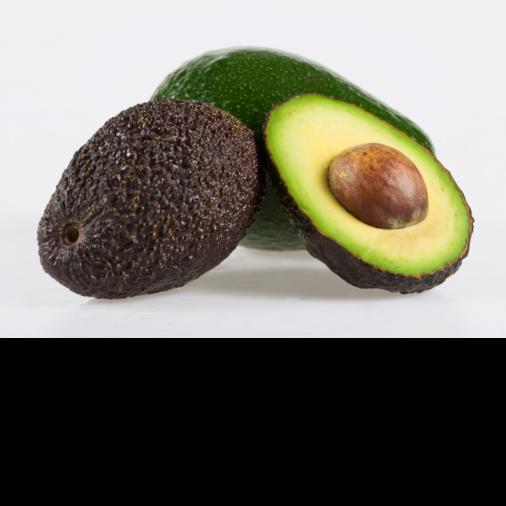ripe: (37, 102, 260, 298)
unripe: (148, 47, 436, 252)
